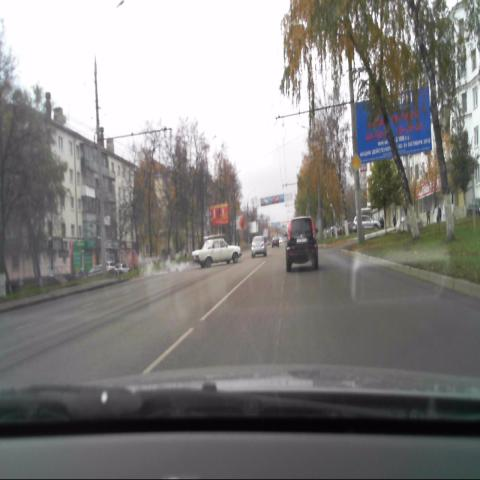2_1: (350, 152, 362, 173)
